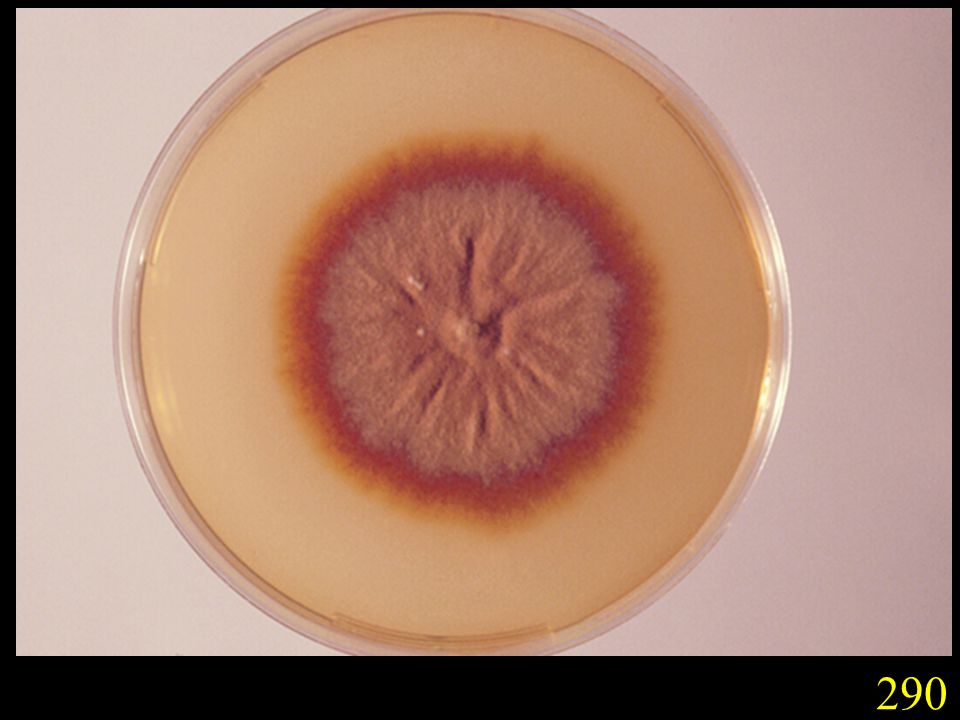Trichophyton: (319, 190, 617, 480)
